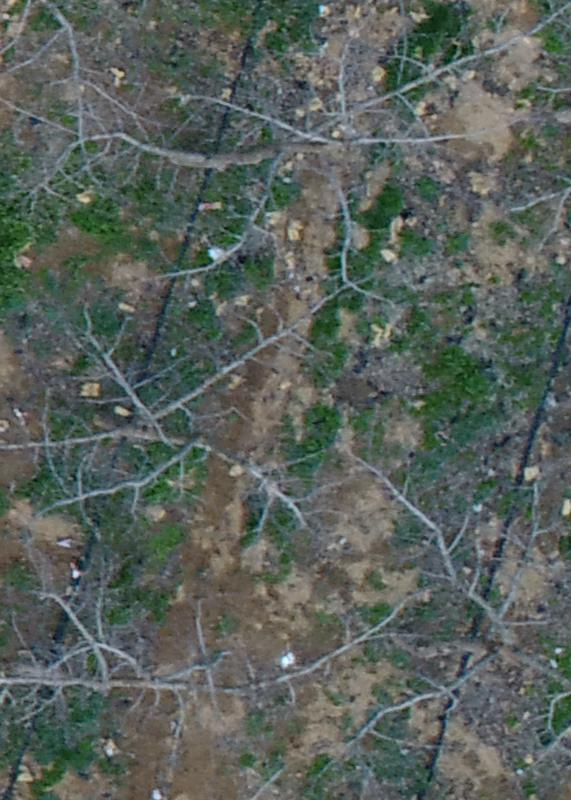apple: (28, 35, 544, 303), (10, 308, 347, 561), (322, 450, 561, 767), (10, 557, 386, 749)
